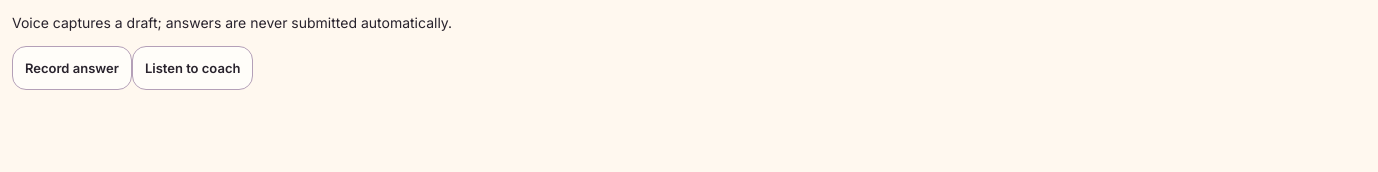
source module voice › leaves draft unchanged when backend reports unavailable
The width and height of the screenshot is (1378, 172).
Click the button "Record answer".
click(72, 68)  # box [12,46,132,90]
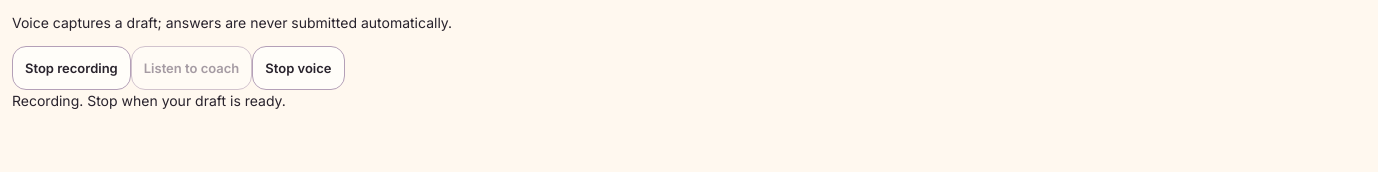
Click the button "Stop recording".
click(71, 68)  # box [12,46,131,90]
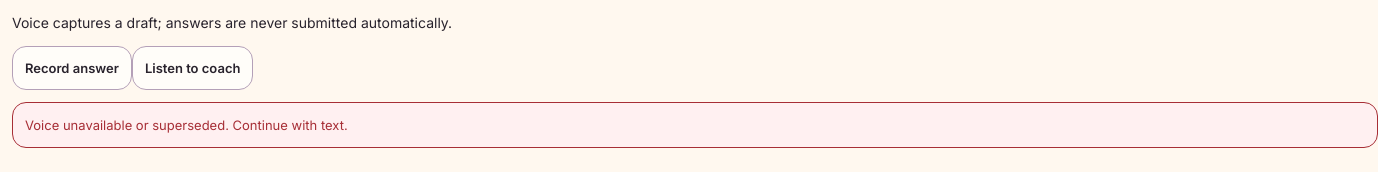
Now the message shows "Continue with text", box [25,117,348,133]
